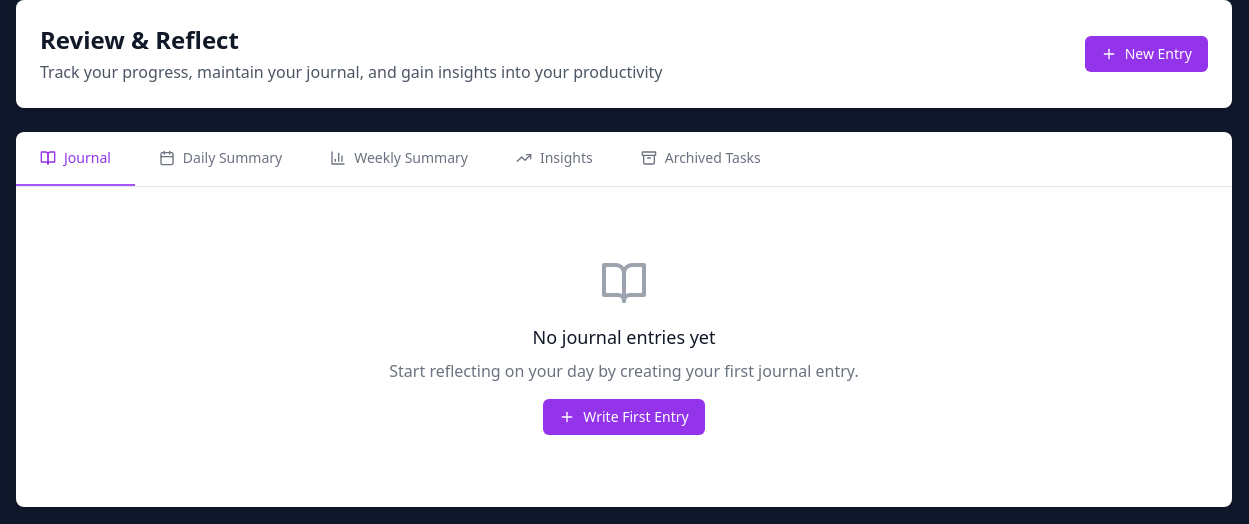
TaskReview › Weekly Summary Tab › should show empty state
Click the button "Weekly Summary". click: (399, 159)
box: x1=306 y1=132 x2=492 y2=186
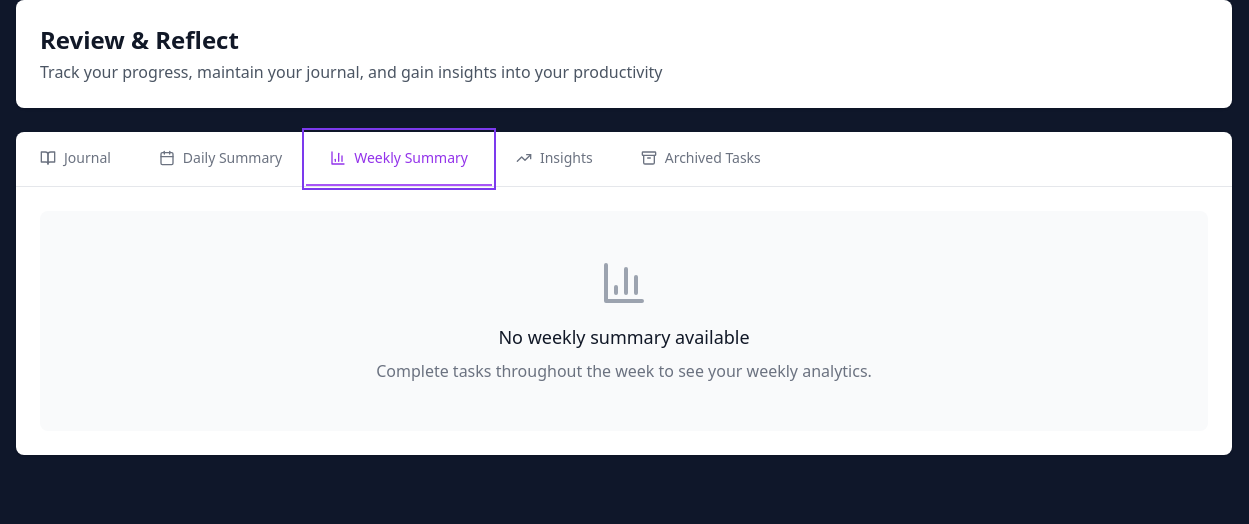
expect the heading "No weekly summary available" is shown: met, box x1=498 y1=325 x2=750 y2=349
